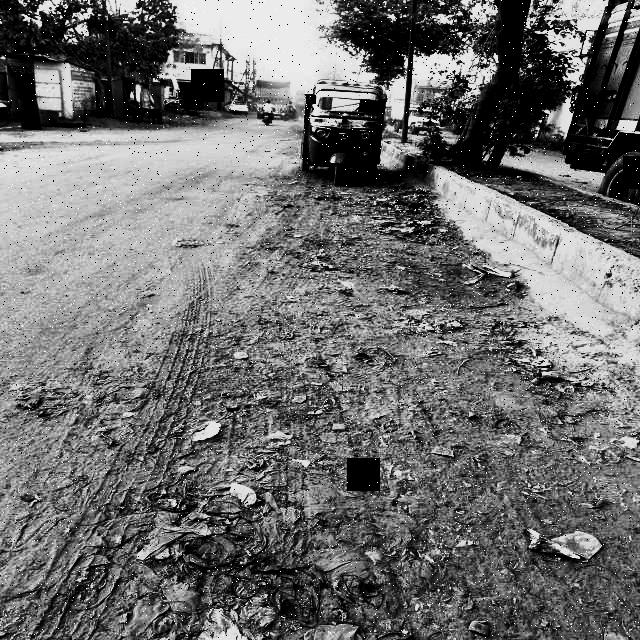Auto-Rickshaw: (298, 79, 404, 184)
